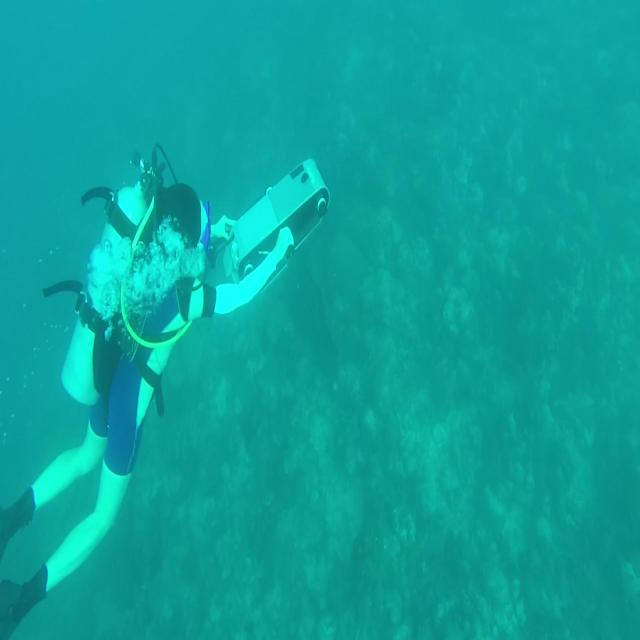human: (1, 147, 327, 636)
